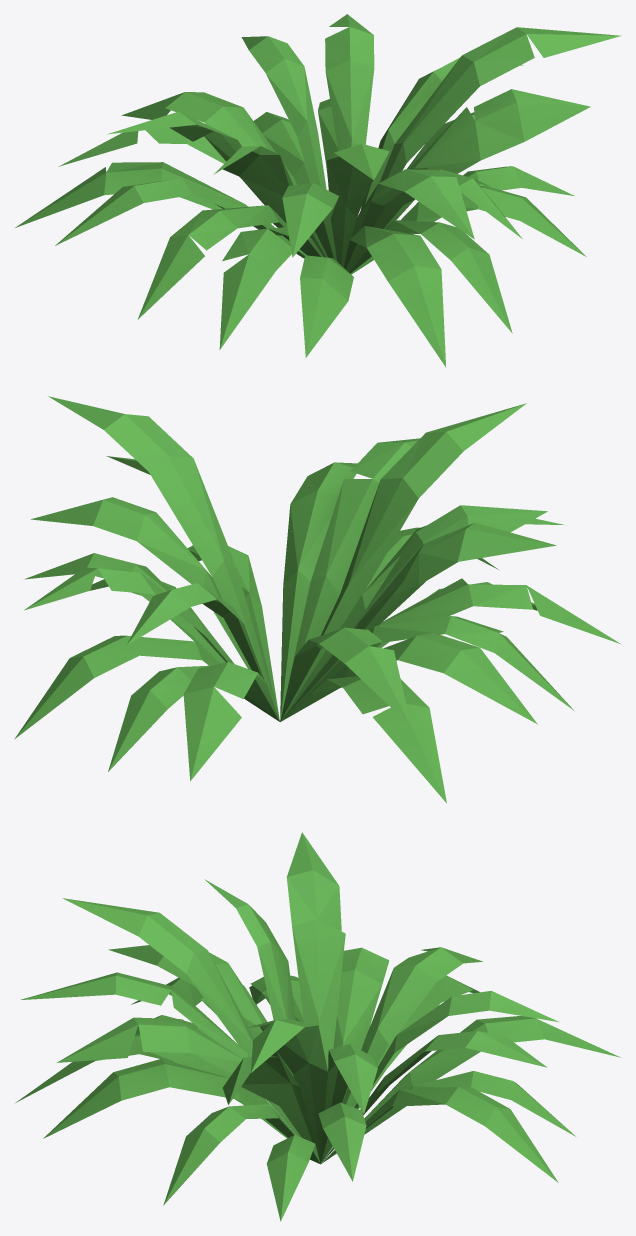
Rendered from bush_fern.glb.
3 views of the same model, one above another, from view 1: azimuth 30°, elevation 25°; view 2: azimuth 150°, elevation 25°; view 3: azimuth 270°, elevation 25° (orthographic). The views are drawn at different scales.
Visible parts, largest first — view 1: Plant_4_A; view 2: Plant_4_A; view 3: Plant_4_A.
Boxes of the visible parts, x1,y1,x2,y2 form: Plant_4_A: [15, 14, 621, 367]; Plant_4_A: [14, 396, 620, 803]; Plant_4_A: [15, 832, 620, 1221].
Size of the model in its own units: 0.7775 by 0.3285 by 0.806.
Materials: 1 (1 with a texture image).
